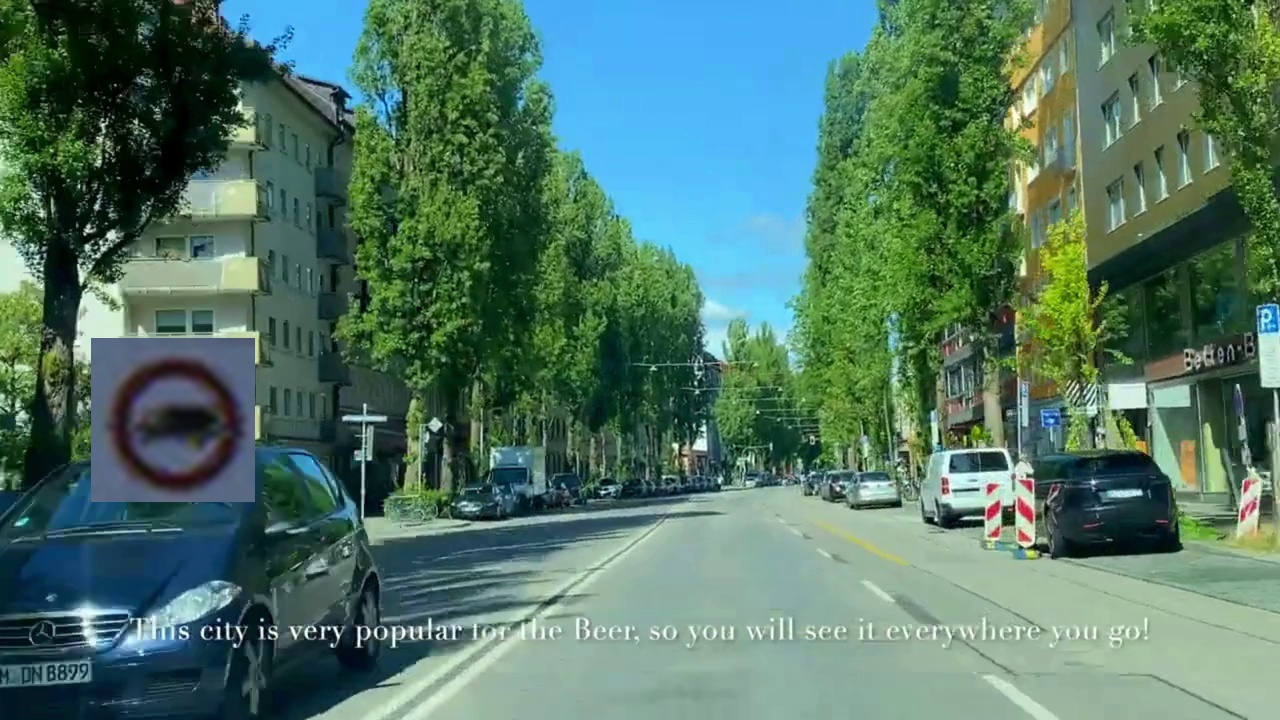Veh >3.5t prohib: (91, 338, 255, 502)
